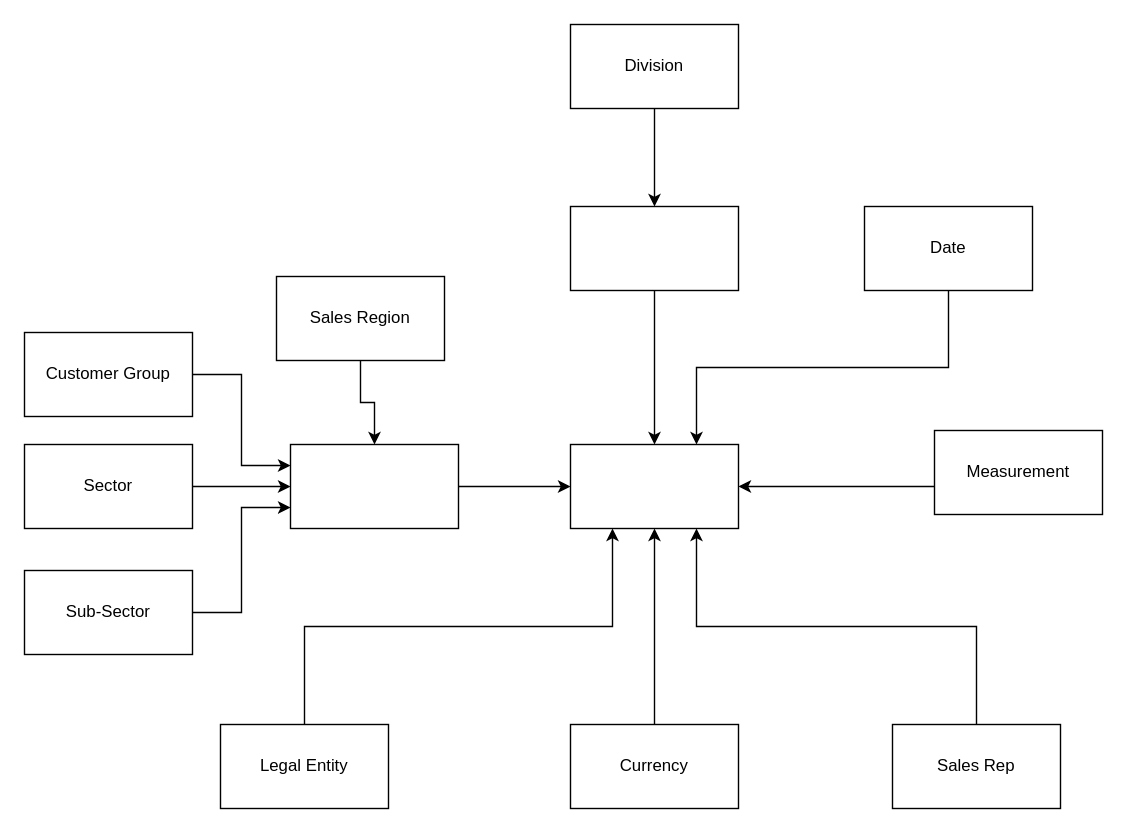
This 1127x833 diagram has some shape labels left out. Here are the shapes that lost their labels. From the top down, the box of each, then its label:
(569, 205, 738, 290): Product/Service
(289, 443, 458, 528): Customer
(569, 443, 738, 528): Sales Invoice
